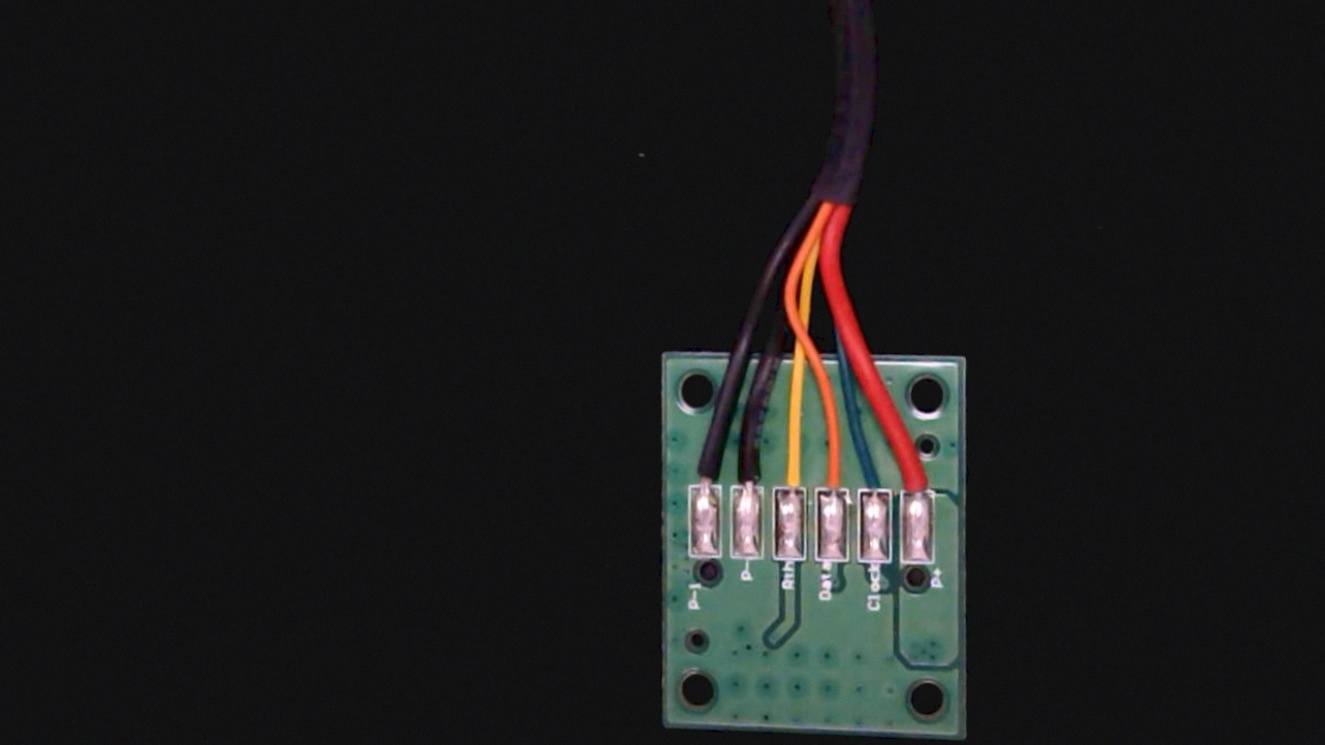Black: (726, 422, 769, 508)
Black1: (685, 425, 726, 504)
Green: (856, 444, 897, 514)
Orange: (813, 427, 854, 512)
Red: (896, 445, 938, 515)
Yellow: (768, 424, 812, 511)
